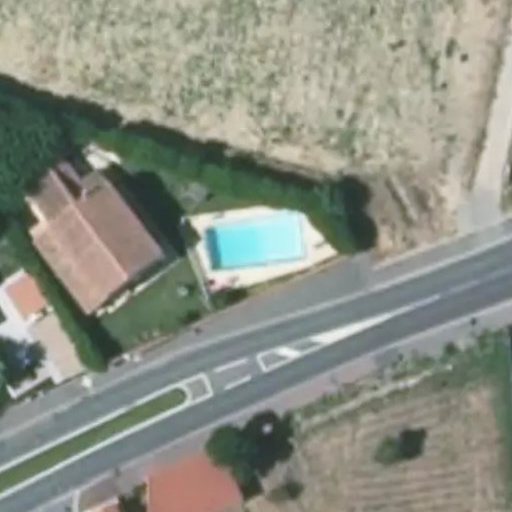pool: (206, 227, 306, 256)
